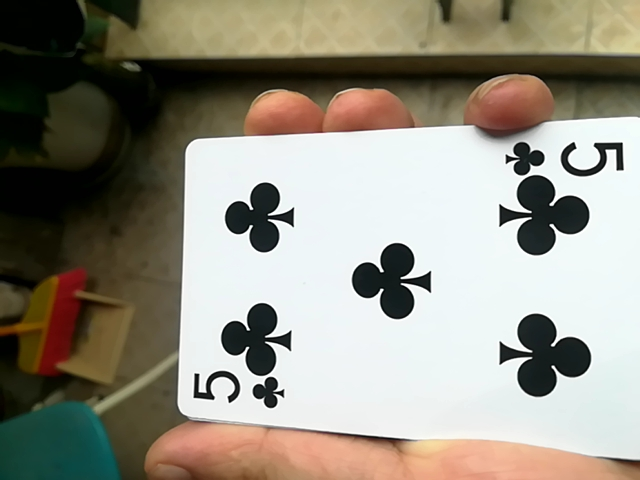mh 5: (163, 118, 635, 454)
